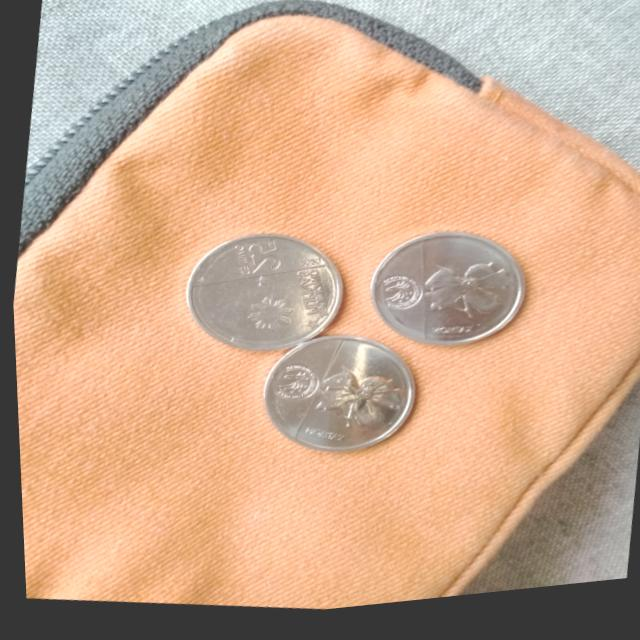25Cent_New_Back: (418, 258, 514, 343), (308, 362, 397, 447)
25Cent_New_Front: (213, 239, 284, 288)
